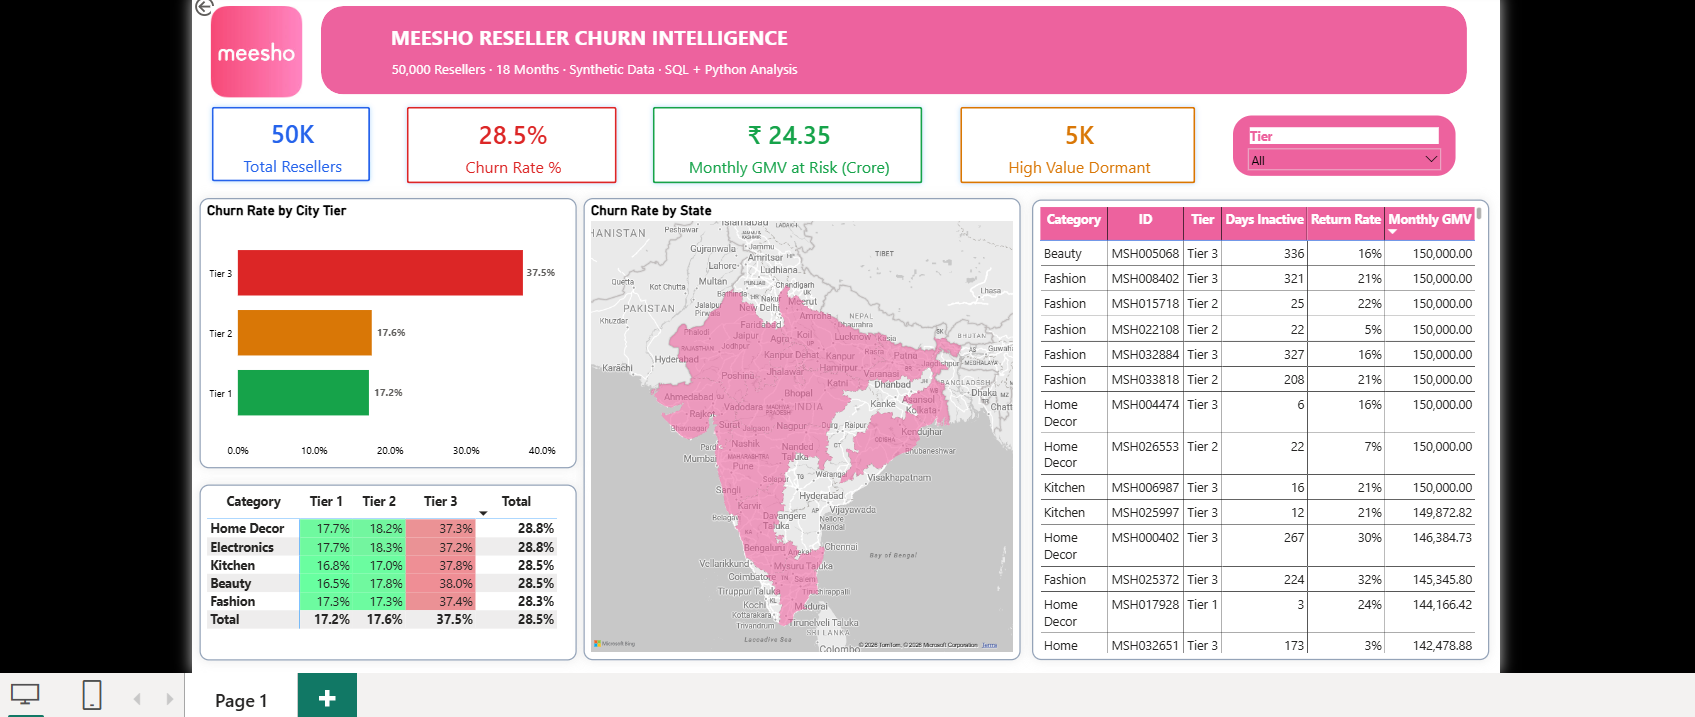

What the dashboard file says about the page in this screenshot:
{"tool":"powerbi","page":{"name":"Page 1","canvas":[2080,1080],"ordinal":0},"visuals":[{"type":"cardVisual","fields":{"Data":["meesho_resellers.Total Resellers"]},"box":[2.5,150,310,177.5],"z":0},{"type":"cardVisual","fields":{"Data":["meesho_resellers.Churn Rate %"]},"box":[312.5,150,392.5,180],"z":1000},{"type":"cardVisual","fields":{"Data":["meesho_resellers.Monthly GMV at Risk"]},"box":[705,150,487.5,180],"z":2000},{"type":"cardVisual","fields":{"Data":["meesho_resellers.High Value Dormant"]},"box":[1192.5,150,432.5,180],"z":3000},{"type":"clusteredBarChart","title":"Churn Rate by City Tier","fields":{"Category":["meesho_resellers.Tier Label"],"Y":["meesho_resellers.Churn Rate %"]},"box":[12.5,325,600,430],"z":4000},{"type":"filledMap","title":"Churn Rate by State","fields":{"Category":["meesho_resellers.state"]},"box":[622.5,325,695,735],"z":5000},{"type":"pivotTable","fields":{"Columns":["meesho_resellers.Tier Label"],"Rows":["meesho_resellers.primary_category"],"Values":["meesho_resellers.Churn Rate %"]},"box":[12.5,780,600,280],"z":6000},{"type":"tableEx","fields":{"Values":["meesho_resellers.primary_category","meesho_resellers.reseller_id","meesho_resellers.Tier Label","Sum(meesho_resellers.days_since_last_order)","Sum(meesho_resellers.return_rate)","Sum(meesho_resellers.monthly_gmv)"]},"box":[1335,327.5,727.5,732.5],"z":7000},{"type":"actionButton","box":[0,0,100,40],"z":8000},{"type":"shape","box":[205.2,19.1,1822.8,140.8],"z":9000},{"type":"textbox","box":[225,40,815,57.5],"z":10000},{"type":"textbox","box":[312.6,97.8,672.8,42.9],"z":11000},{"type":"image","box":[0,20,205,145],"z":12000},{"type":"slicer","fields":{"Values":["meesho_resellers.Tier Label"]},"box":[1656,194.4,354.3,96],"z":13000}]}

Visuals, with their boxes in screenshot pixels (x1, y1, x2, y2):
cardVisual - meesho_resellers.Total Resellers: left=200, top=90, right=395, bottom=202
cardVisual - meesho_resellers.Churn Rate %: left=395, top=90, right=643, bottom=203
cardVisual - meesho_resellers.Monthly GMV at Risk: left=643, top=90, right=950, bottom=203
cardVisual - meesho_resellers.High Value Dormant: left=950, top=90, right=1222, bottom=203
"Churn Rate by City Tier" clusteredBarChart: left=207, top=200, right=584, bottom=471
"Churn Rate by State" filledMap: left=591, top=200, right=1028, bottom=663
pivotTable - meesho_resellers.Tier Label x meesho_resellers.primary_category: left=207, top=487, right=584, bottom=663
tableEx - meesho_resellers.primary_category x meesho_resellers.reseller_id: left=1039, top=202, right=1498, bottom=663
actionButton: left=199, top=0, right=262, bottom=21
shape: left=328, top=8, right=1476, bottom=96
textbox: left=340, top=21, right=854, bottom=57
textbox: left=396, top=57, right=819, bottom=84
image: left=199, top=8, right=328, bottom=100
slicer - meesho_resellers.Tier Label: left=1242, top=118, right=1465, bottom=178
